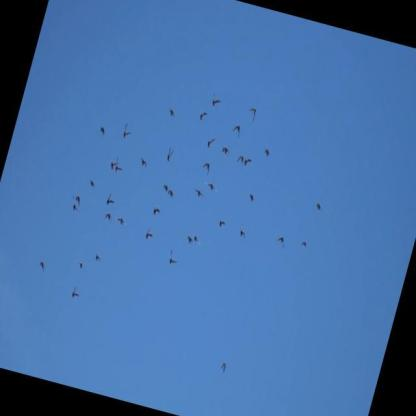bird: (111, 155, 127, 175), (166, 247, 181, 268), (209, 92, 224, 110), (120, 122, 134, 141), (219, 142, 233, 160), (103, 191, 117, 209), (203, 179, 219, 194), (113, 213, 128, 228), (204, 132, 217, 149), (69, 285, 82, 302), (246, 104, 258, 122), (144, 226, 156, 244), (164, 145, 175, 164), (274, 233, 287, 249), (199, 160, 212, 175), (197, 107, 209, 123), (107, 157, 119, 172), (150, 203, 162, 218), (231, 123, 242, 138), (242, 153, 253, 168), (237, 225, 248, 240), (36, 259, 47, 274), (261, 147, 272, 161), (191, 232, 202, 246), (185, 234, 195, 249), (97, 125, 108, 138), (192, 186, 203, 199), (70, 200, 81, 213), (92, 251, 103, 264), (235, 153, 245, 166), (314, 200, 324, 213), (166, 187, 176, 200), (217, 215, 227, 228), (219, 361, 228, 375), (138, 157, 149, 168), (74, 193, 84, 205), (167, 106, 176, 119), (161, 181, 170, 194), (104, 211, 113, 223), (76, 259, 85, 271), (247, 191, 255, 203), (88, 178, 97, 188), (300, 240, 308, 249)
